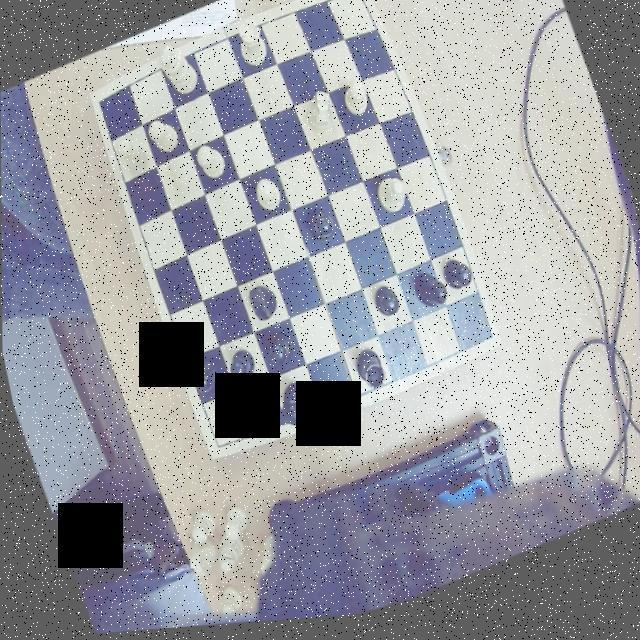chess-table-corners: (472, 326, 502, 359), (207, 434, 234, 464), (90, 88, 112, 122), (343, 0, 368, 12)
